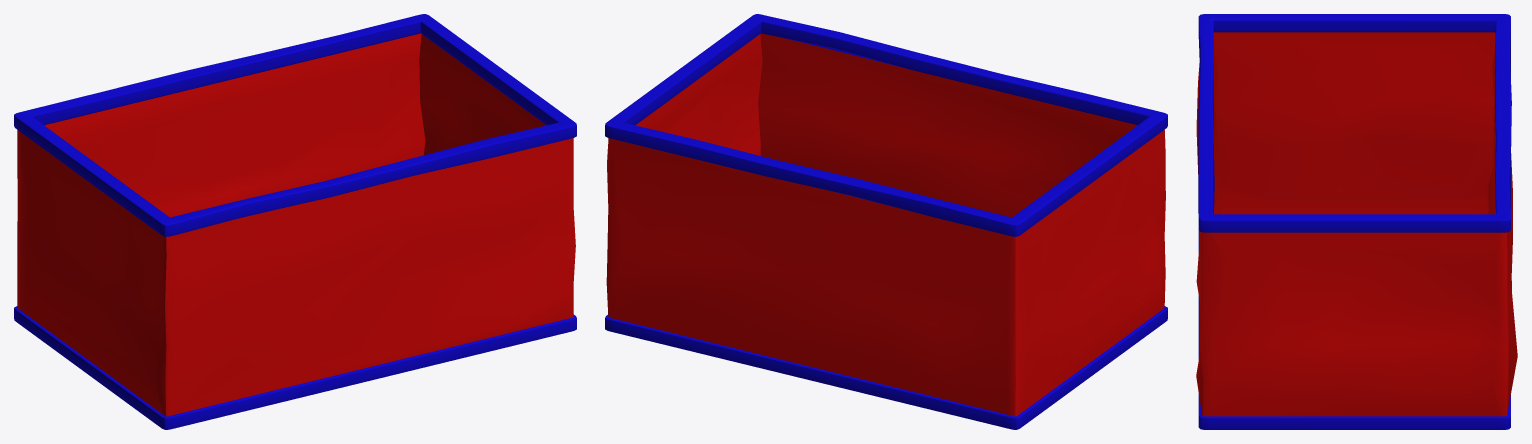
The model's file is basket.FBX.
3 views of the same model, side by side, from view 1: azimuth 30°, elevation 25°; view 2: azimuth 150°, elevation 25°; view 3: azimuth 270°, elevation 25° (orthographic). The views are drawn at different scales.
Parts seen in each view (by area): view 1: basket; view 2: basket; view 3: basket.
Part boxes in pixels (box(x1,y1,x2,y2)): basket: box(14, 14, 576, 429); basket: box(605, 14, 1167, 429); basket: box(1196, 14, 1517, 429).
Bounding box in the file's own units: 16.84 × 7.93 × 10.92.
